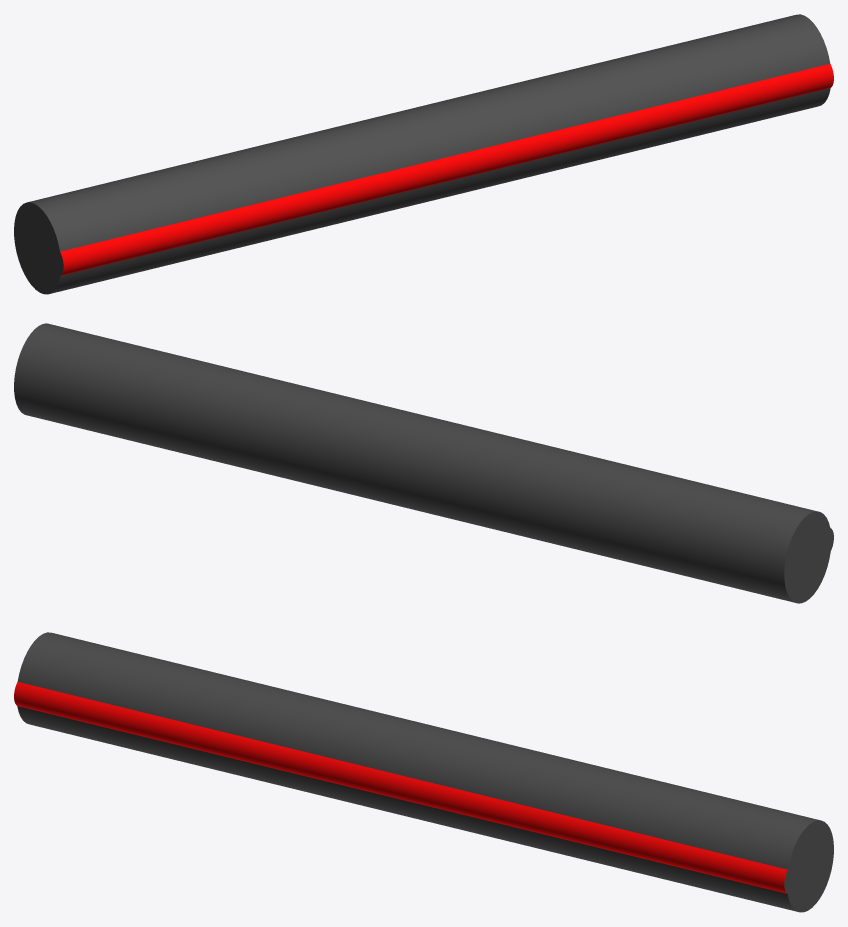
The model's file is ConveyorRoller.glb.
The picture shows the model from 3 angles, top to bottom: view 1: azimuth 30°, elevation 25°; view 2: azimuth 150°, elevation 25°; view 3: azimuth 330°, elevation 25°; orthographic projection.
Visible parts, largest first — view 1: Part 18; view 2: Part 18; view 3: Part 18.
Boxes of the visible parts, x1,y1,x2,y2 form: Part 18: (14, 14, 833, 294); Part 18: (14, 323, 833, 603); Part 18: (14, 632, 833, 912).
Bounding box in the file's own units: 0.3588 × 0.038 × 0.0401.
